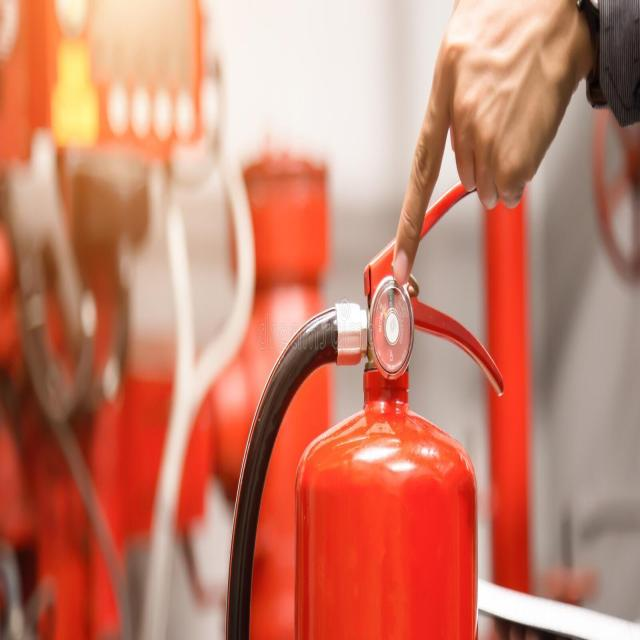fire_extinguisher: (220, 124, 526, 639)
